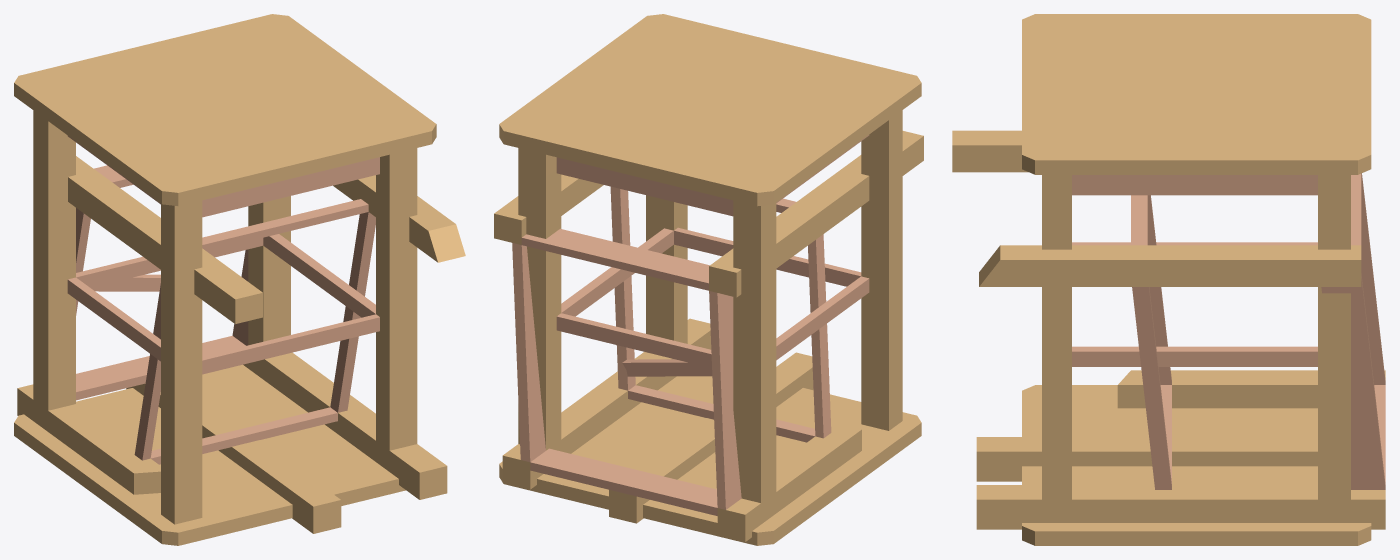
File: Chair1.fbx
3 renders of one model, left to right at view 1: azimuth 30°, elevation 25°; view 2: azimuth 150°, elevation 25°; view 3: azimuth 270°, elevation 25°, orthographic. The views are drawn at different scales.
Parts seen in each view (by area): view 1: ChairWood1, ChairWood1.2, ChairWood_detail2, ChairWood_detail1, ChairWood1.1; view 2: ChairWood1, ChairWood1.2, ChairWood_detail2, ChairWood_detail1, ChairWood1.1; view 3: ChairWood1, ChairWood1.2, ChairWood_detail2, ChairWood_detail1.
Part boxes in pixels (left/top/right/bottom): ChairWood1: left=14, top=14, right=436, bottom=524; ChairWood1.2: left=17, top=156, right=465, bottom=499; ChairWood_detail2: left=14, top=364, right=405, bottom=545; ChairWood_detail1: left=126, top=383, right=341, bottom=533; ChairWood1.1: left=83, top=274, right=375, bottom=313; ChairWood1: left=499, top=14, right=921, bottom=524; ChairWood1.2: left=494, top=131, right=923, bottom=541; ChairWood_detail2: left=499, top=376, right=921, bottom=545; ChairWood_detail1: left=609, top=352, right=813, bottom=523; ChairWood1.1: left=622, top=229, right=712, bottom=376; ChairWood1: left=1022, top=14, right=1371, bottom=522; ChairWood1.2: left=952, top=130, right=1385, bottom=529; ChairWood_detail2: left=1022, top=385, right=1371, bottom=545; ChairWood_detail1: left=976, top=437, right=1317, bottom=481.
Bounding box in the file's own units: 63.4 × 77.04 × 78.23.
